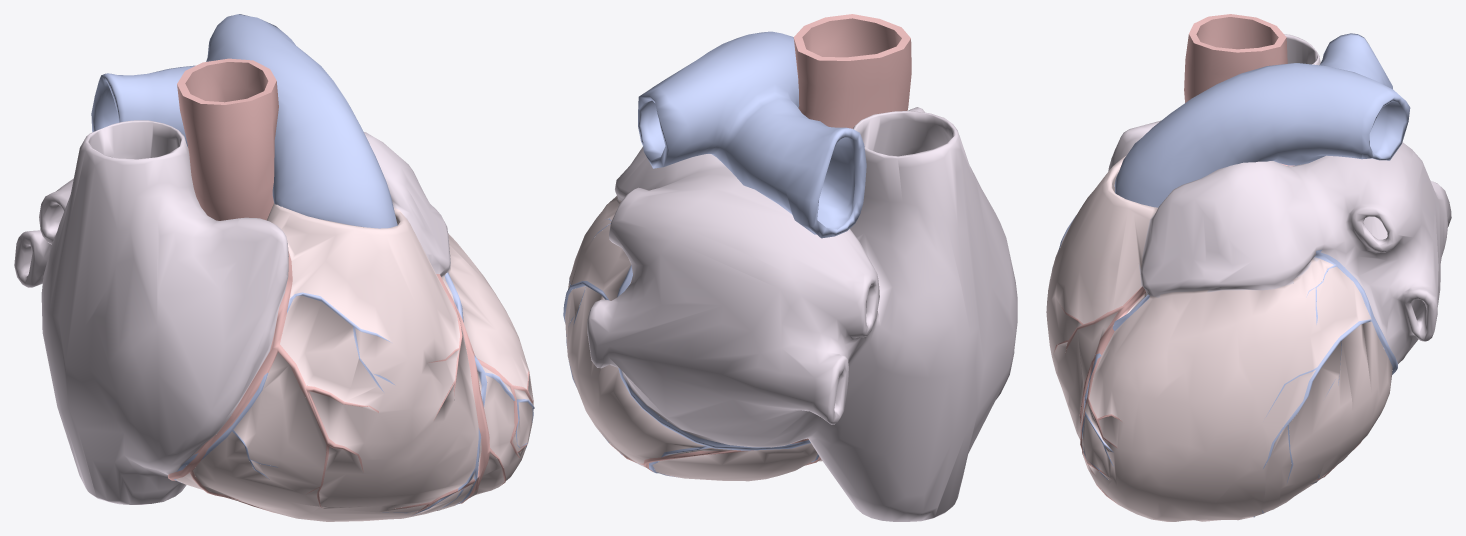
Rendered from heartDraco-processed.glb.
The picture shows the model from 3 angles, left to right: view 1: azimuth 30°, elevation 25°; view 2: azimuth 150°, elevation 25°; view 3: azimuth 270°, elevation 25°; orthographic projection. The views are drawn at different scales.
Visible parts, largest first — view 1: heart_base, Pulmonary Trunk, aorta; view 2: heart_base, Pulmonary Trunk, aorta; view 3: heart_base, Pulmonary Trunk, aorta.
Part boxes in pixels (x1,y1,x2,y2): heart_base: (14,120,534,521); Pulmonary Trunk: (91,14,397,228); aorta: (177,58,278,220); heart_base: (563,107,1017,521); Pulmonary Trunk: (638,31,866,238); aorta: (793,14,911,128); heart_base: (1046,34,1451,521); Pulmonary Trunk: (1114,33,1410,207); aorta: (1184,14,1294,166).
Bounding box in the file's own units: 5.79 × 6.01 × 5.45.
